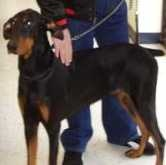dog: (0, 1, 166, 149)
